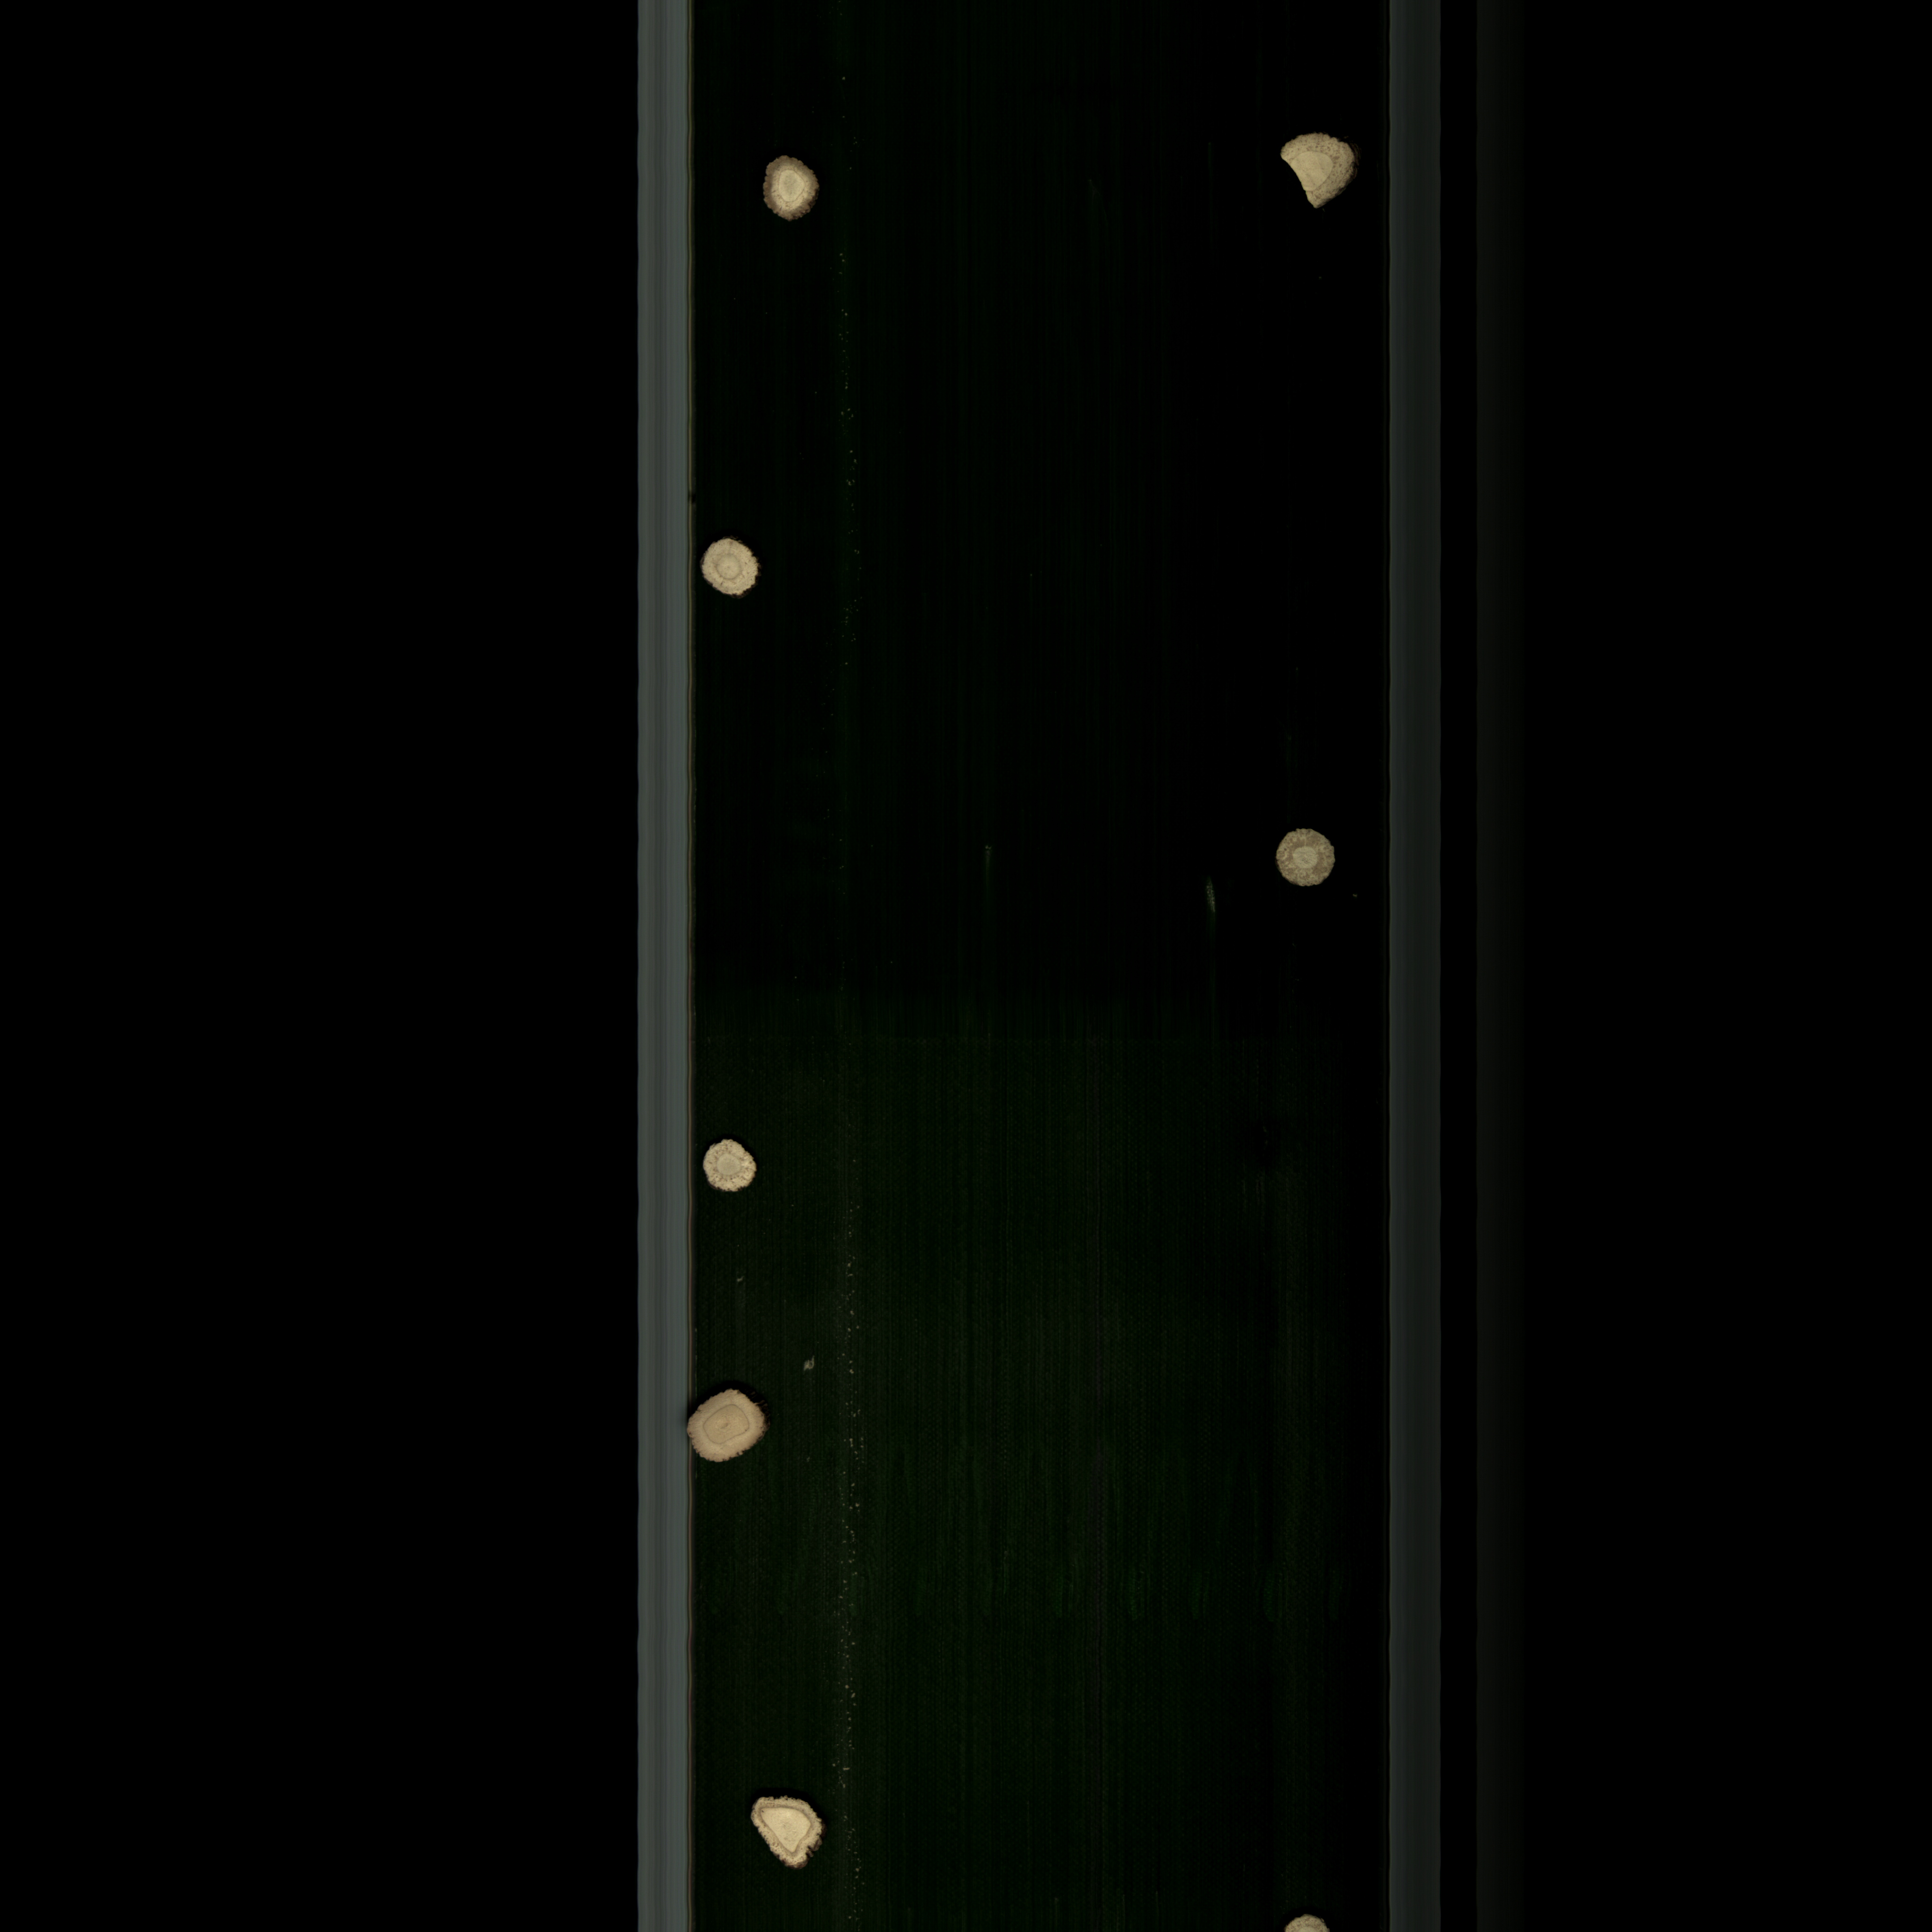debris: (1267, 126, 1369, 225)
distortion: (734, 1778, 839, 1881)
moldy: (683, 1385, 777, 1476), (1263, 814, 1348, 897), (754, 154, 828, 230)
